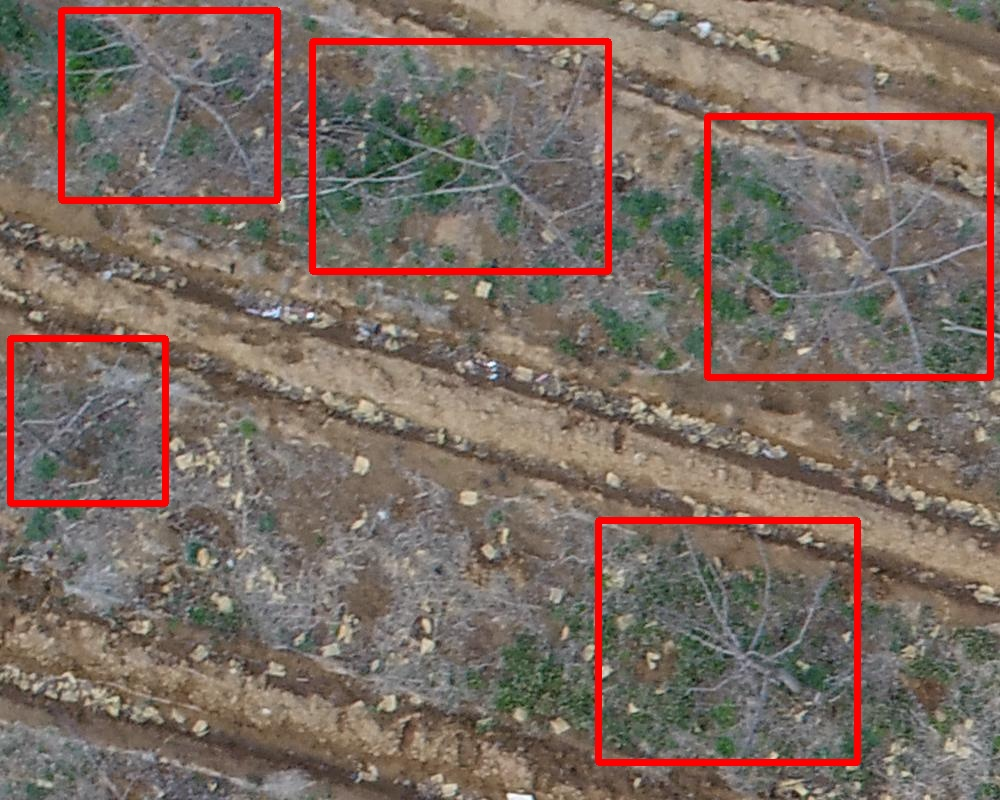apple: (707, 116, 990, 377), (312, 41, 608, 271), (598, 520, 857, 762), (61, 10, 277, 200), (10, 338, 165, 503)
